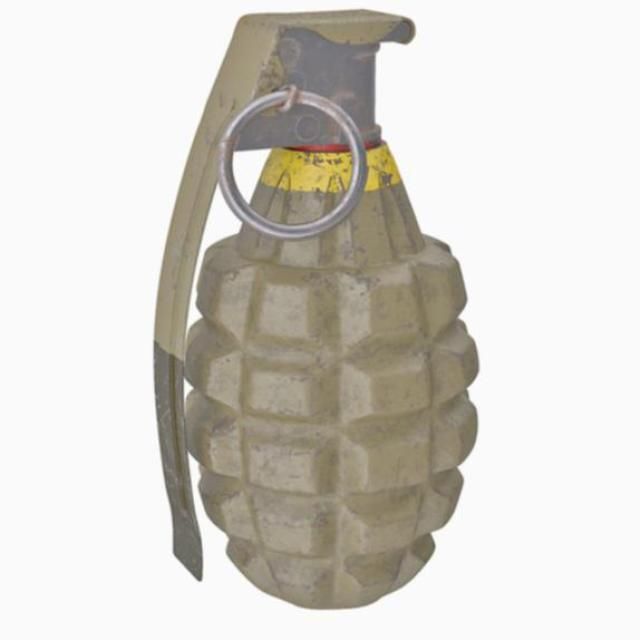grenade: (150, 12, 483, 611)
